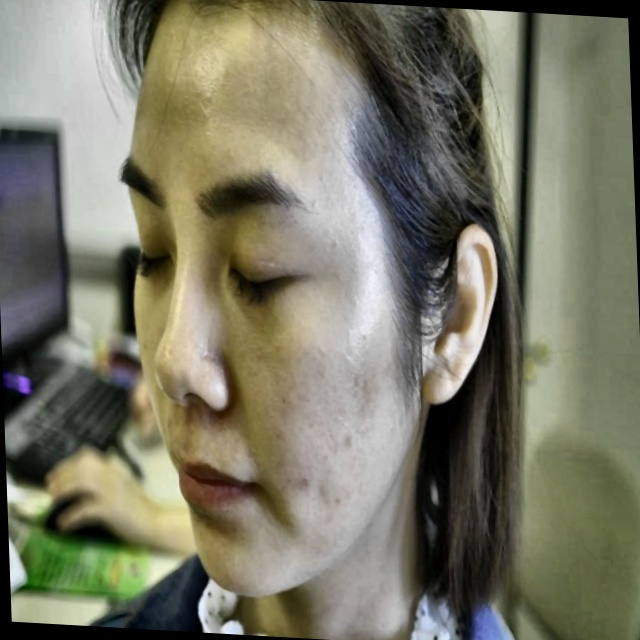comedone: (294, 465, 313, 500)
